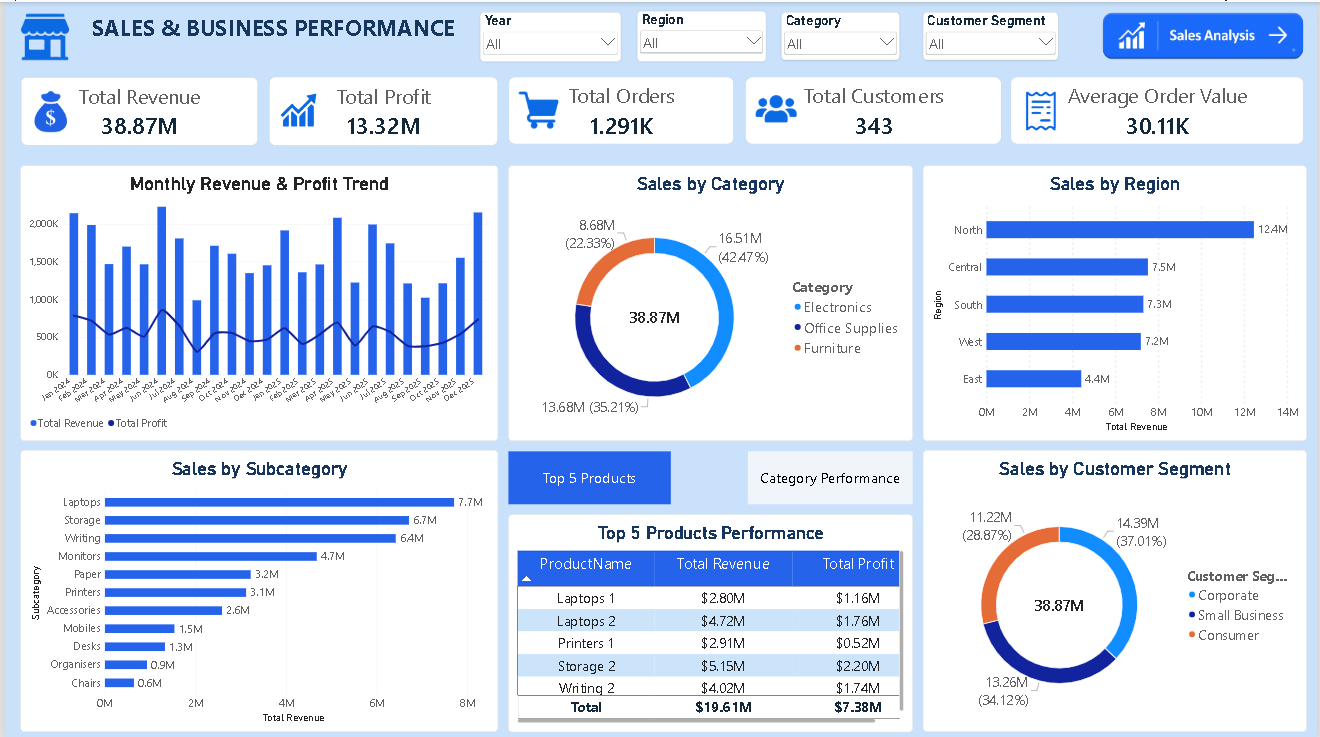

What the dashboard file says about the page in this screenshot:
{"tool":"powerbi","page":{"name":"Sales Overview","canvas":[2560,1440],"ordinal":0},"visuals":[{"type":"textbox","box":[30.1,0,896.9,100.5],"z":0},{"type":"cardVisual","fields":{"Data":["_Measures.Total Revenue"]},"box":[30.1,145.7,464.8,135.7],"z":1000},{"type":"cardVisual","fields":{"Data":["_Measures.Total Orders"]},"box":[982.6,145.2,440.7,132.2],"z":2000},{"type":"cardVisual","fields":{"Data":["_Measures.Average Order Value"]},"box":[1962.6,145.2,573,132.2],"z":3000},{"type":"cardVisual","fields":{"Data":["_Measures.Total Profit"]},"box":[515,145.7,447.2,135.7],"z":4000},{"type":"cardVisual","fields":{"Data":["_Measures.Total Customers"]},"box":[1444.1,145.2,500.4,132.2],"z":5000},{"type":"donutChart","title":"Sales by Category","fields":{"Category":["tbl_Products.Category"],"Y":["_Measures.Total Revenue"]},"box":[982.3,319.1,788.9,537.6],"z":6000},{"type":"clusteredBarChart","title":"Sales by Region","fields":{"Category":["tbl_Regions.Region"],"Y":["_Measures.Total Revenue"]},"box":[1791.3,319.1,748.7,537.6],"z":7000},{"type":"clusteredBarChart","title":"Sales by Subcategory","fields":{"Category":["tbl_Products.Subcategory"],"Y":["_Measures.Total Revenue"]},"box":[30.1,874.3,932.1,550.2],"z":9000},{"type":"donutChart","title":"Sales by Customer Segment","fields":{"Category":["tbl_Customers.CustomerSegment"],"Y":["_Measures.Total Revenue"]},"box":[1791.3,874.3,748.7,550.2],"z":10000},{"type":"slicer","fields":{"Values":["tbl_Orders.OrderStatus"]},"box":[928.1,20.7,274.8,95.9],"z":11000},{"type":"slicer","fields":{"Values":["tbl_Regions.Region"]},"box":[1234.1,18.1,251.5,98.5],"z":12000},{"type":"slicer","fields":{"Values":["tbl_Products.Category"]},"box":[1514.1,20.7,230.7,93.3],"z":13000},{"type":"image","box":[50.2,173.4,77.9,80.4],"z":14000},{"type":"image","box":[31.1,20.7,95.9,95.9],"z":15000},{"type":"image","box":[537.6,170.8,70.3,80.4],"z":16000},{"type":"image","box":[1003.3,171.1,77.9,80.4],"z":17000},{"type":"image","box":[1464.8,168.5,80.4,80.4],"z":18000},{"type":"image","box":[1962.6,173.7,119.3,77.8],"z":19000},{"type":"image","box":[2141.5,18.1,394.1,95.9],"z":20000},{"type":"tableEx","title":"Category-wise Performance","fields":{"Values":["tbl_Products.Category","_Measures.Total Revenue","_Measures.Total Profit"]},"box":[982.3,994.9,788.9,429.6],"z":21000},{"type":"actionButton","title":"inacatve-product","box":[982.3,874.3,316.3,103.7],"z":22000},{"type":"actionButton","title":"Active-catagory","box":[1444.6,874.3,321.6,103],"z":23000},{"type":"slicer","fields":{"Values":["tbl_Customers.CustomerSegment"]},"box":[1791.5,20.7,264.4,93.3],"z":26000},{"type":"lineClusteredColumnComboChart","title":"Monthly Revenue & Profit Trend","fields":{"Category":["Date.Year-Month"],"Y":["_Measures.Total Revenue"],"Y2":["_Measures.Total Profit"]},"box":[30.1,319.1,932.1,537.6],"z":27000}]}

Visuals, with their boxes in screenshot pixels (x1, y1, x2, y2), scaled from the page's 2560x1440 canvas onto the 1320x737 screenshot:
textbox: [16,0,478,51]
cardVisual - _Measures.Total Revenue: [16,75,255,144]
cardVisual - _Measures.Total Orders: [507,74,734,142]
cardVisual - _Measures.Average Order Value: [1012,74,1307,142]
cardVisual - _Measures.Total Profit: [266,75,496,144]
cardVisual - _Measures.Total Customers: [745,74,1003,142]
"Sales by Category" donutChart: [506,163,913,438]
"Sales by Region" clusteredBarChart: [924,163,1310,438]
"Sales by Subcategory" clusteredBarChart: [16,447,496,729]
"Sales by Customer Segment" donutChart: [924,447,1310,729]
slicer - tbl_Orders.OrderStatus: [479,11,620,60]
slicer - tbl_Regions.Region: [636,9,766,60]
slicer - tbl_Products.Category: [781,11,900,58]
image: [26,89,66,130]
image: [16,11,65,60]
image: [277,87,313,129]
image: [517,88,557,129]
image: [755,86,797,127]
image: [1012,89,1073,129]
image: [1104,9,1307,58]
"Category-wise Performance" tableEx: [506,509,913,729]
"inacatve-product" actionButton: [506,447,670,501]
"Active-catagory" actionButton: [745,447,911,500]
slicer - tbl_Customers.CustomerSegment: [924,11,1060,58]
"Monthly Revenue & Profit Trend" lineClusteredColumnComboChart: [16,163,496,438]
